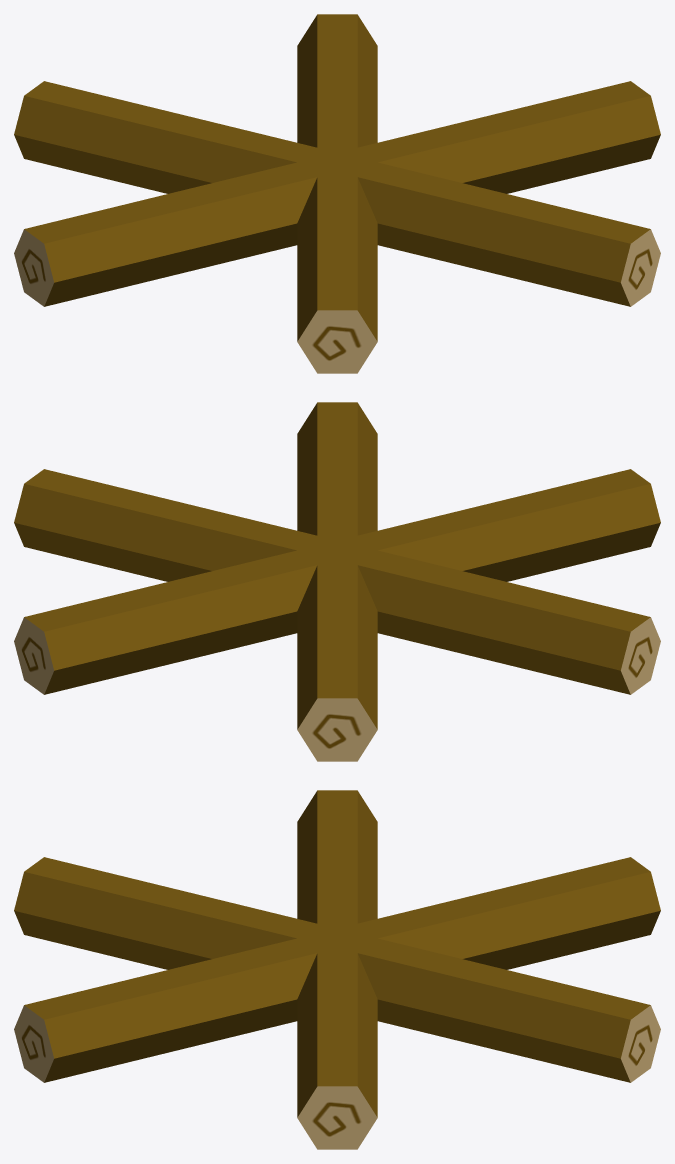
Rendered from Fire_Pit.fbx.
3 renders of one model, top to bottom at view 1: azimuth 30°, elevation 25°; view 2: azimuth 150°, elevation 25°; view 3: azimuth 270°, elevation 25°, orthographic.
Visible parts, largest first — view 1: Fire_Pit; view 2: Fire_Pit; view 3: Fire_Pit.
Boxes of the visible parts, <box> form: Fire_Pit: <box>14,14,660,373</box>; Fire_Pit: <box>14,402,660,761</box>; Fire_Pit: <box>14,790,660,1149</box>.
Size of the model in its own units: 2.49 by 0.2472 by 2.3.
